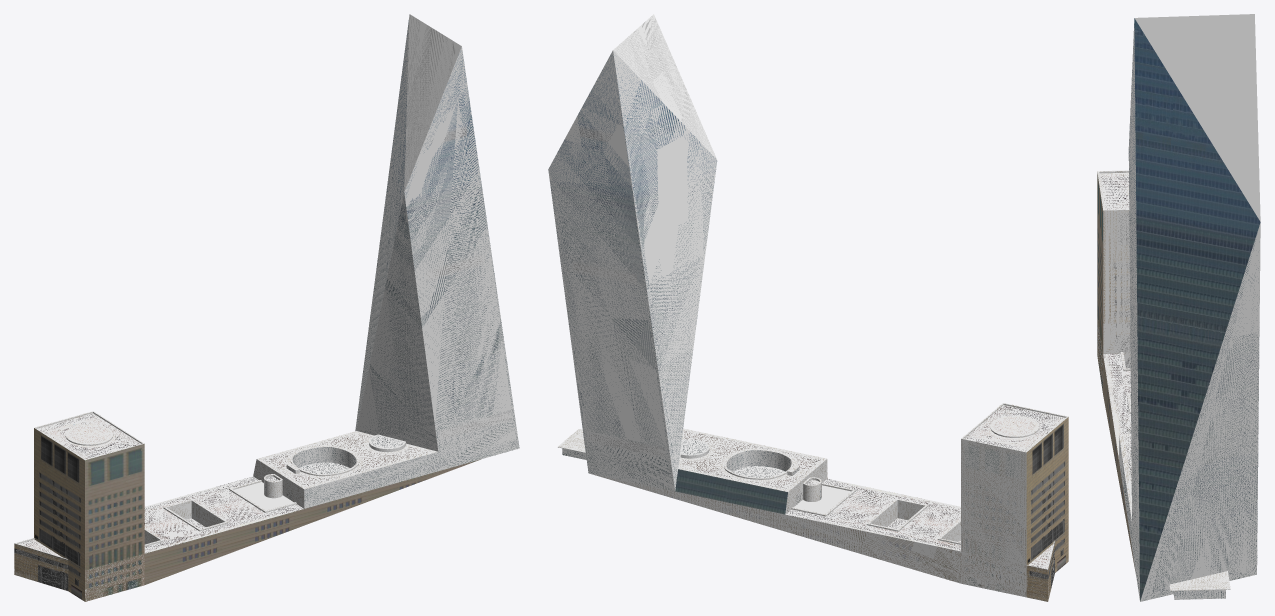
The model's file is soyak+kristal+kule.dae.
3 renders of one model, left to right at view 1: azimuth 30°, elevation 25°; view 2: azimuth 150°, elevation 25°; view 3: azimuth 270°, elevation 25°, orthographic. The views are drawn at different scales.
Parts seen in each view (by area): view 1: Component_1 (×16); view 2: Component_1 (×15); view 3: Component_1 (×10).
Part boxes in pixels (left/top/right/bottom): Component_1 (×16): left=14, top=14, right=519, bottom=601; Component_1 (×15): left=548, top=14, right=1068, bottom=601; Component_1 (×10): left=1097, top=14, right=1260, bottom=601.
Bounding box in the file's own units: 7971 × 1815 × 7197.
